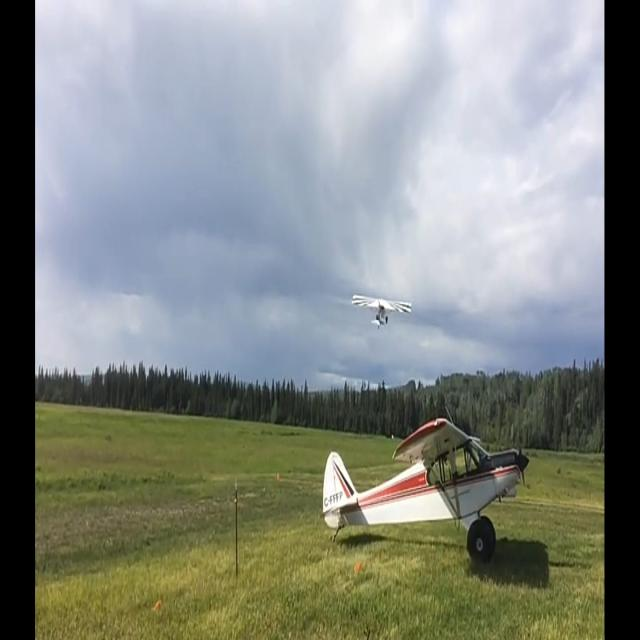iha: (320, 412, 530, 568), (350, 290, 413, 332)
